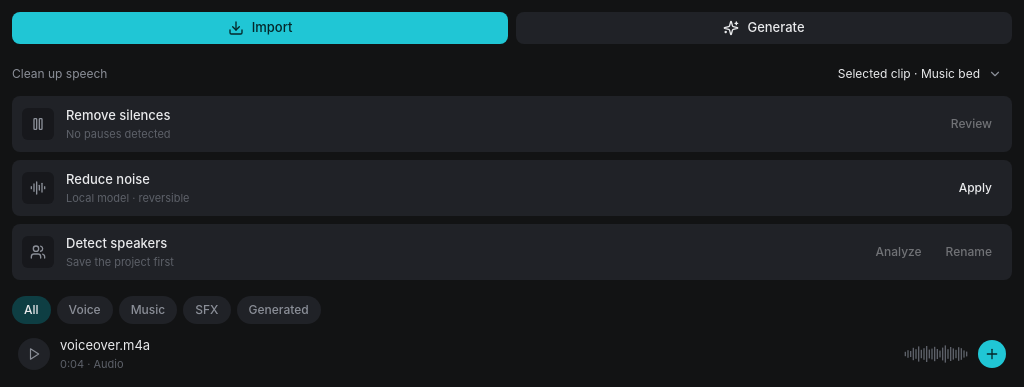
Test: AudioPanel › applies noise reduction to the target's audio clips
Click the button with aria-label "Apply noise reduction" at (975, 188), box [949, 174, 1002, 202]
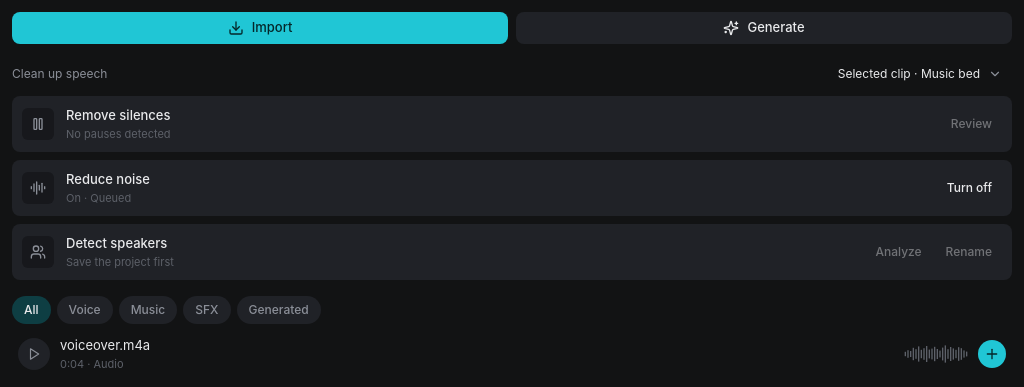
Check: the button with aria-label "Turn off noise reduction" is shown, box [937, 174, 1002, 202]
